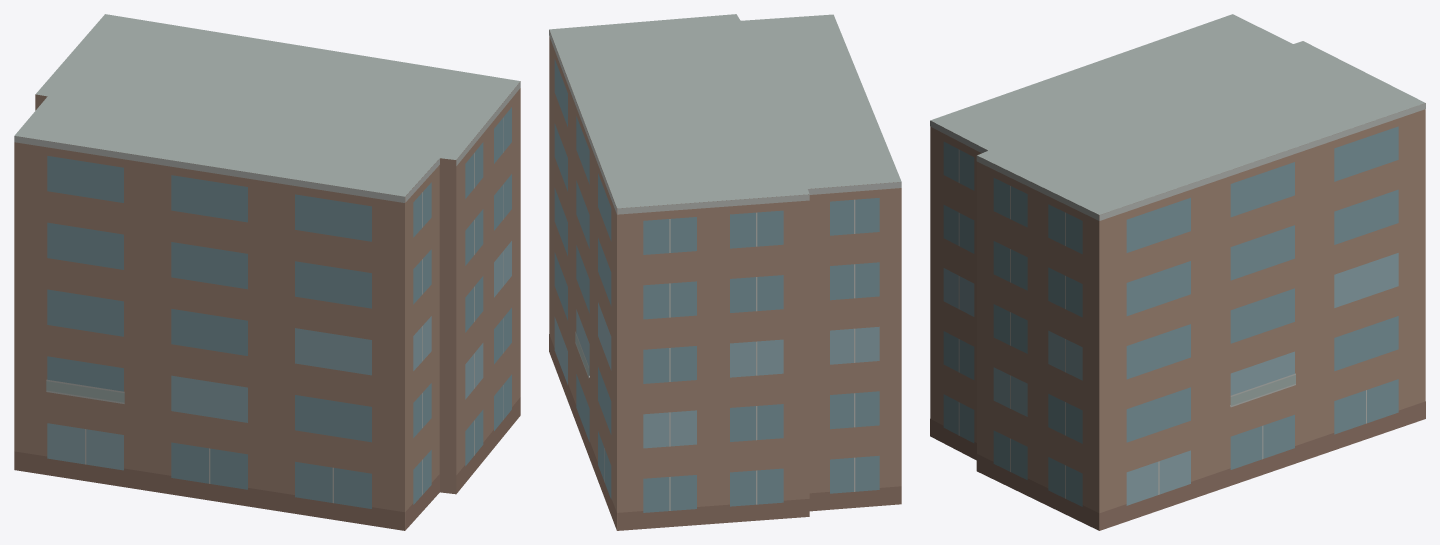
The model's file is survey-upis-32806711.glb.
3 renders of one model, left to right at view 1: azimuth 30°, elevation 25°; view 2: azimuth 150°, elevation 25°; view 3: azimuth 270°, elevation 25°, orthographic. The views are drawn at different scales.
Parts seen in each view (by area): view 1: survey-upis-32806711.tmp; view 2: survey-upis-32806711.tmp; view 3: survey-upis-32806711.tmp.
Part boxes in pixels (x1,y1,x2,y2): survey-upis-32806711.tmp: (14,14,520,530); survey-upis-32806711.tmp: (549,14,901,530); survey-upis-32806711.tmp: (930,14,1425,530).
Bounding box in the file's own units: 17.34 × 12.7 × 18.07.
